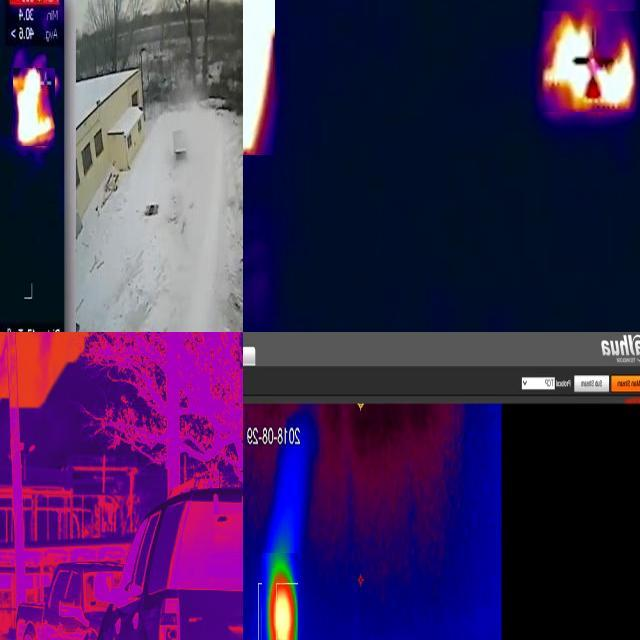fire: (542, 11, 636, 112), (244, 1, 274, 159), (13, 68, 55, 146), (261, 553, 297, 640)
